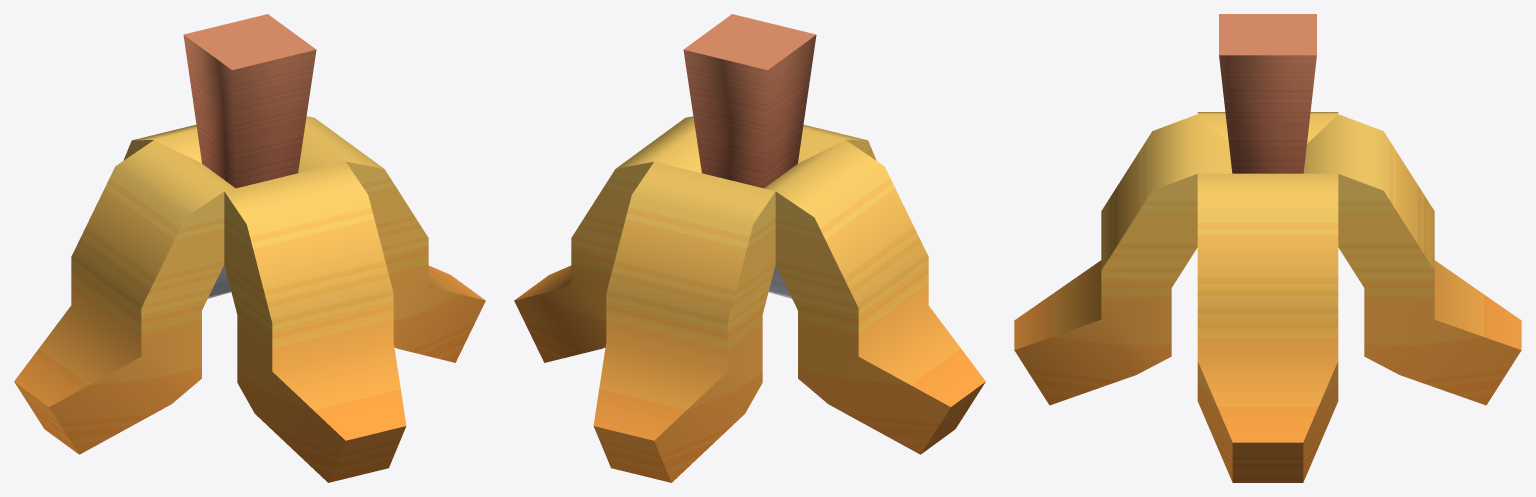
The model's file is item-banana.glb.
The picture shows the model from 3 angles, left to right: view 1: azimuth 30°, elevation 25°; view 2: azimuth 150°, elevation 25°; view 3: azimuth 270°, elevation 25°; orthographic projection.
Visible parts, largest first — view 1: item-banana; view 2: item-banana; view 3: item-banana.
Part boxes in pixels (x1,y1,x2,y2): item-banana: (14, 14, 485, 482); item-banana: (514, 14, 985, 482); item-banana: (1014, 14, 1521, 482).
Bounding box in the file's own units: 0.3166 × 0.2452 × 0.3166.
Materials: 1 (1 with a texture image).
